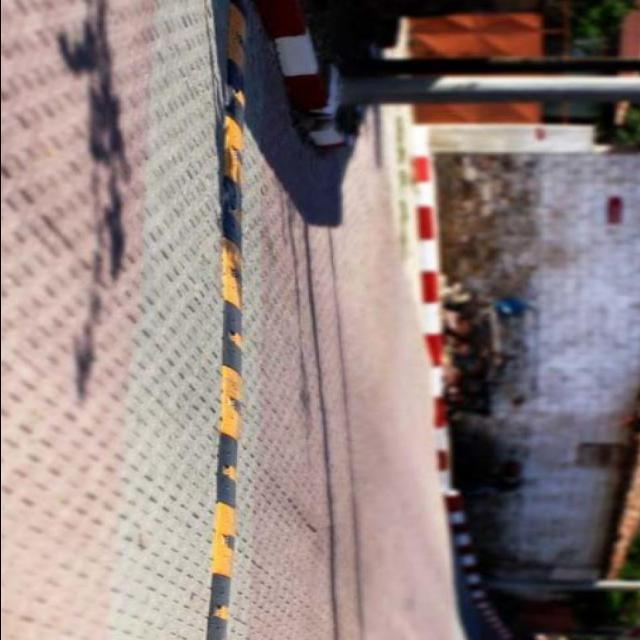speedbreaker: (206, 0, 260, 640)
